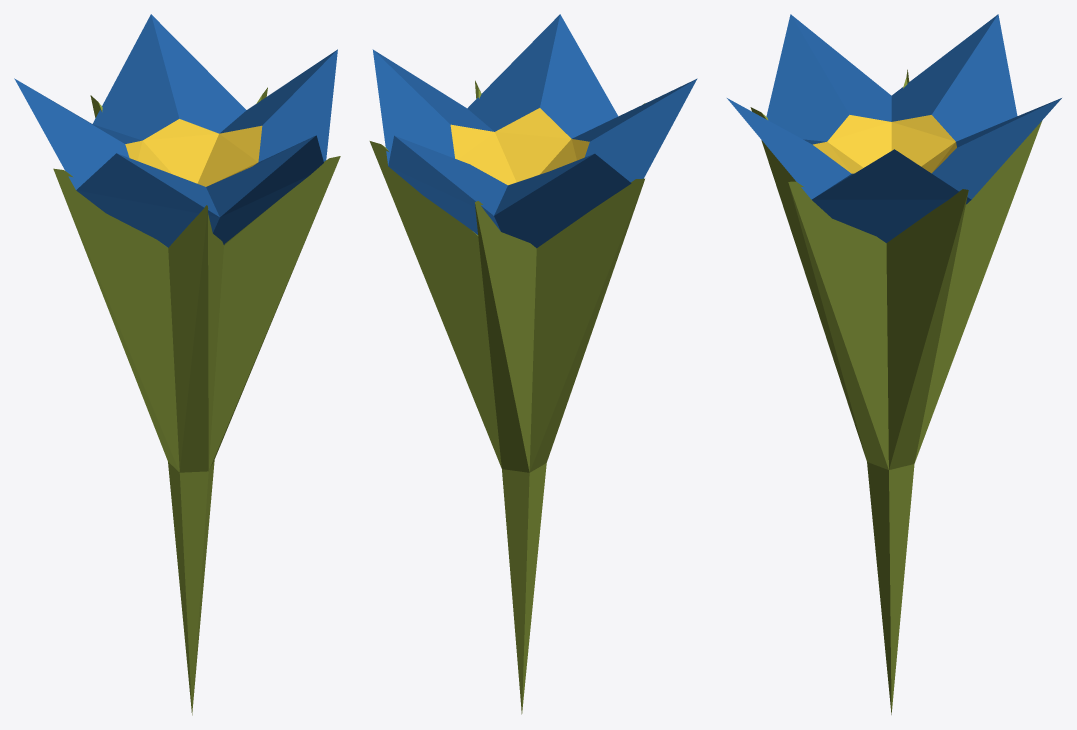
File: island_flower_1.fbx
3 renders of one model, left to right at view 1: azimuth 30°, elevation 25°; view 2: azimuth 150°, elevation 25°; view 3: azimuth 270°, elevation 25°, orthographic.
Parts seen in each view (by area): view 1: Plant; view 2: Plant; view 3: Plant.
Part boxes in pixels (x1,y1,x2,y2): Plant: (14,14,340,715); Plant: (369,14,697,714); Plant: (727,14,1061,714).
Size of the model in its own units: 0.2408 by 0.5207 by 0.2481.
